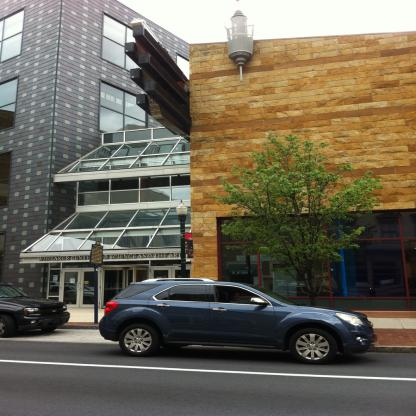Car: (96, 276, 378, 365), (0, 280, 68, 336)
